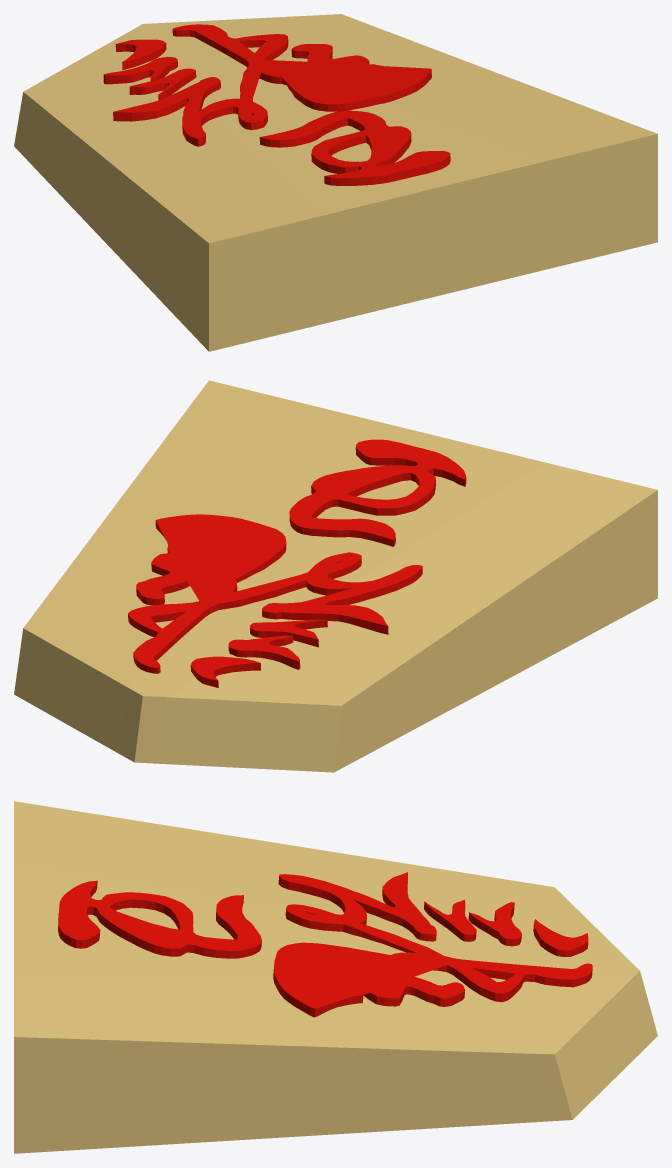
The model's file is DragonRoi.fbx.
3 renders of one model, top to bottom at view 1: azimuth 30°, elevation 25°; view 2: azimuth 150°, elevation 25°; view 3: azimuth 270°, elevation 25°, orthographic. The views are drawn at different scales.
Visible parts, largest first — view 1: Dragon; view 2: Dragon; view 3: Dragon.
Boxes of the visible parts, x1,y1,x2,y2 form: Dragon: (14, 14, 657, 351); Dragon: (14, 380, 657, 772); Dragon: (14, 801, 657, 1153).
Bounding box in the file's own units: 63.4 × 73.15 × 15.25.
